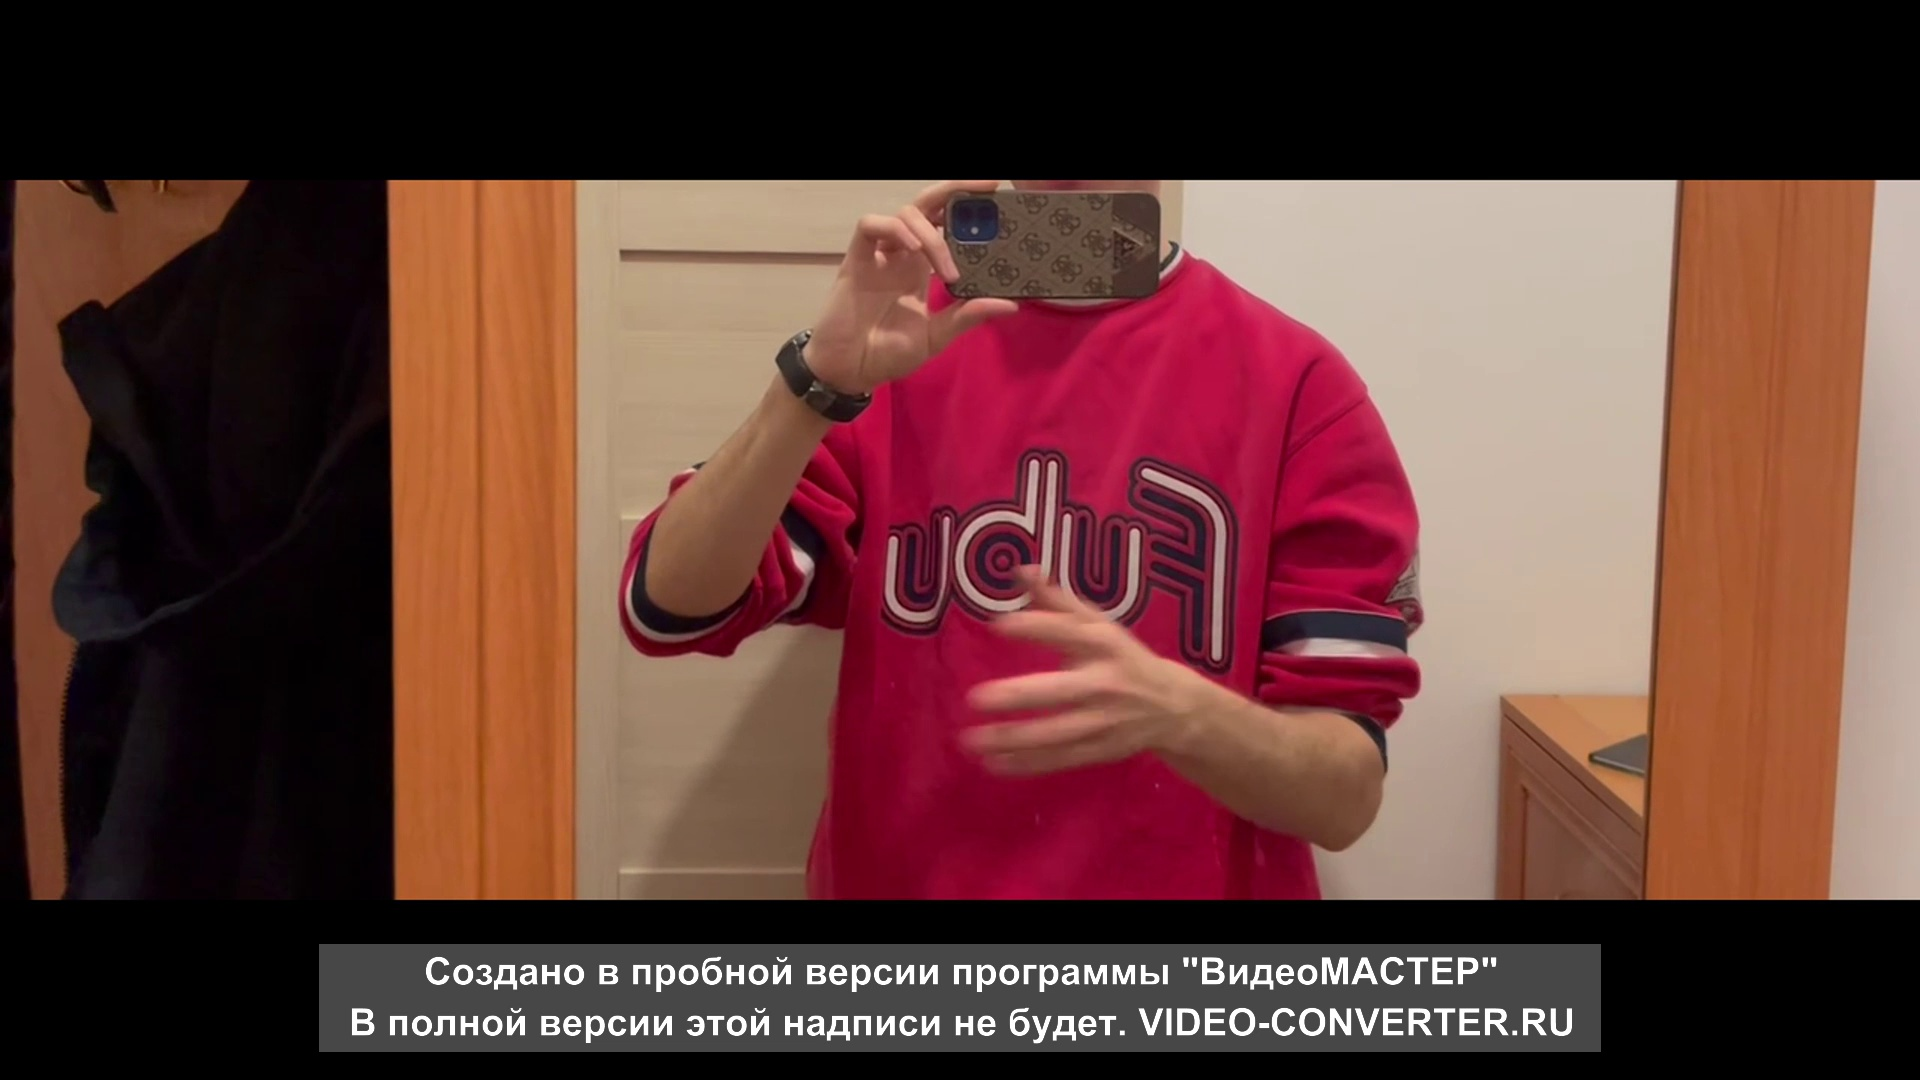Кисть: (959, 563, 1171, 775)
